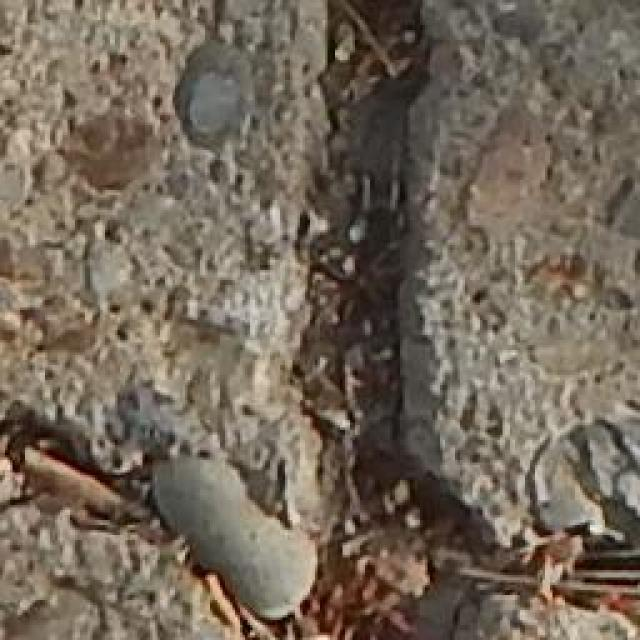concrete-crack: (0, 0, 640, 640)
